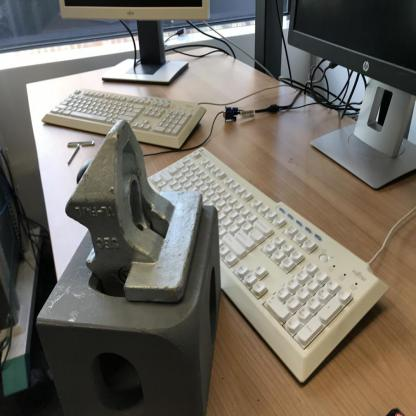CornerCasting: (24, 266, 229, 415)
Twistlock: (59, 117, 207, 307)
